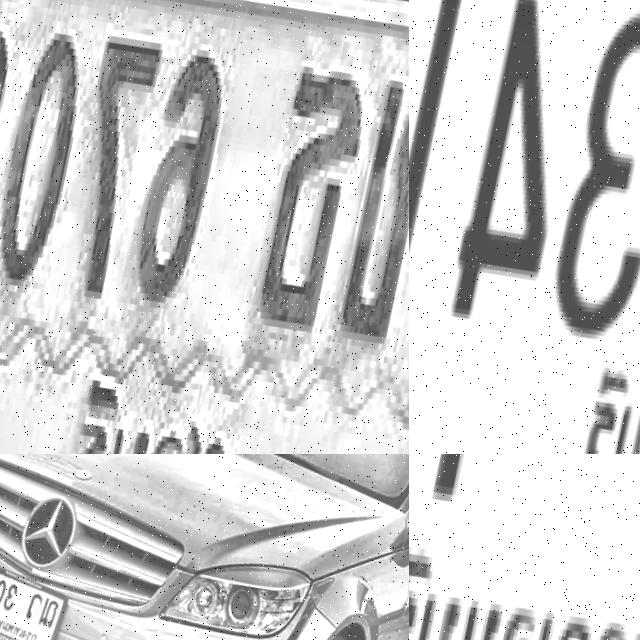license-plate: (0, 0, 409, 454), (409, 0, 640, 454), (409, 454, 640, 640), (0, 549, 78, 640)
